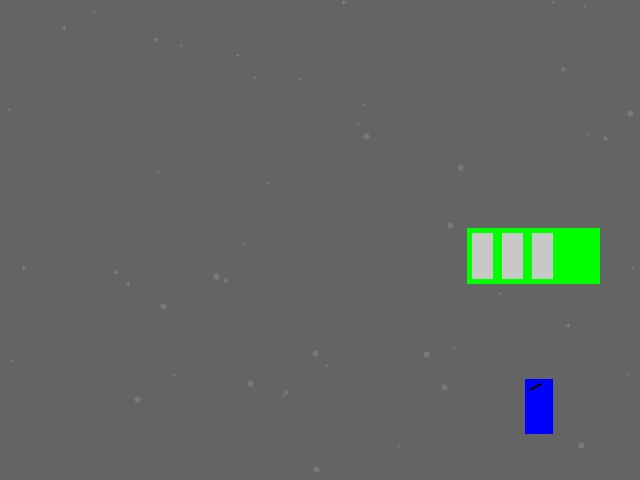bus: (467, 228, 599, 283)
motorcycle: (525, 379, 552, 433)
